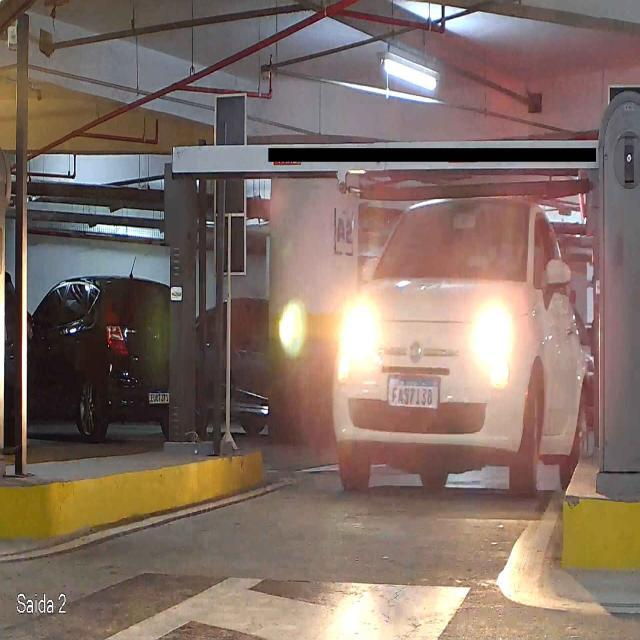mercosul_plate: (387, 376, 441, 411)
